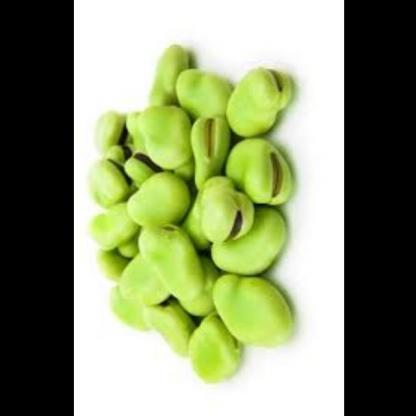beans: (86, 43, 307, 385)
